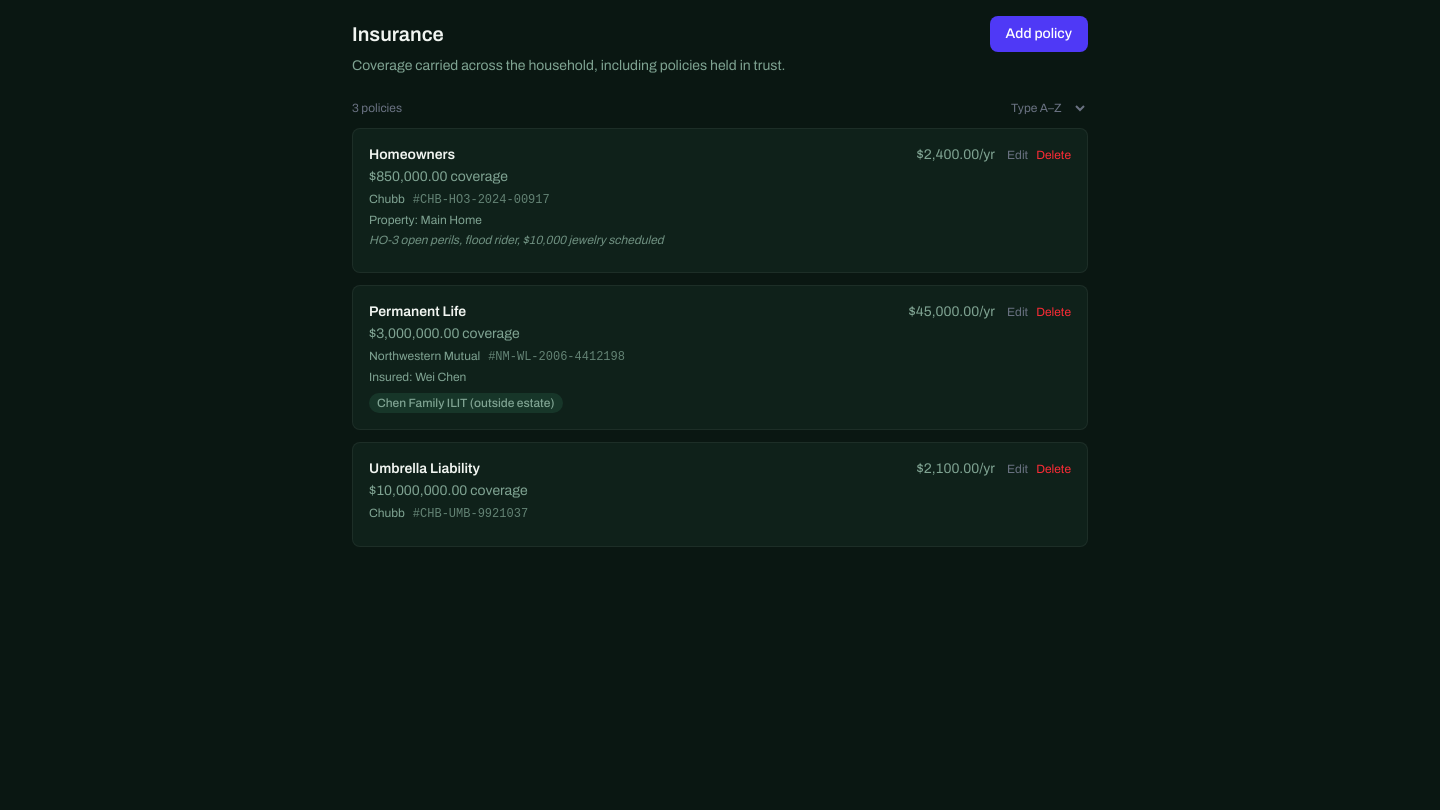
Test: Insurance page › closes Edit modal on Cancel
The width and height of the screenshot is (1440, 810).
Expected: the text "Umbrella Liability" is shown, [369,459,480,479]
Click the button "Edit" in the row of "$2,400.00" at (1018, 155), box [1007,147,1028,163]
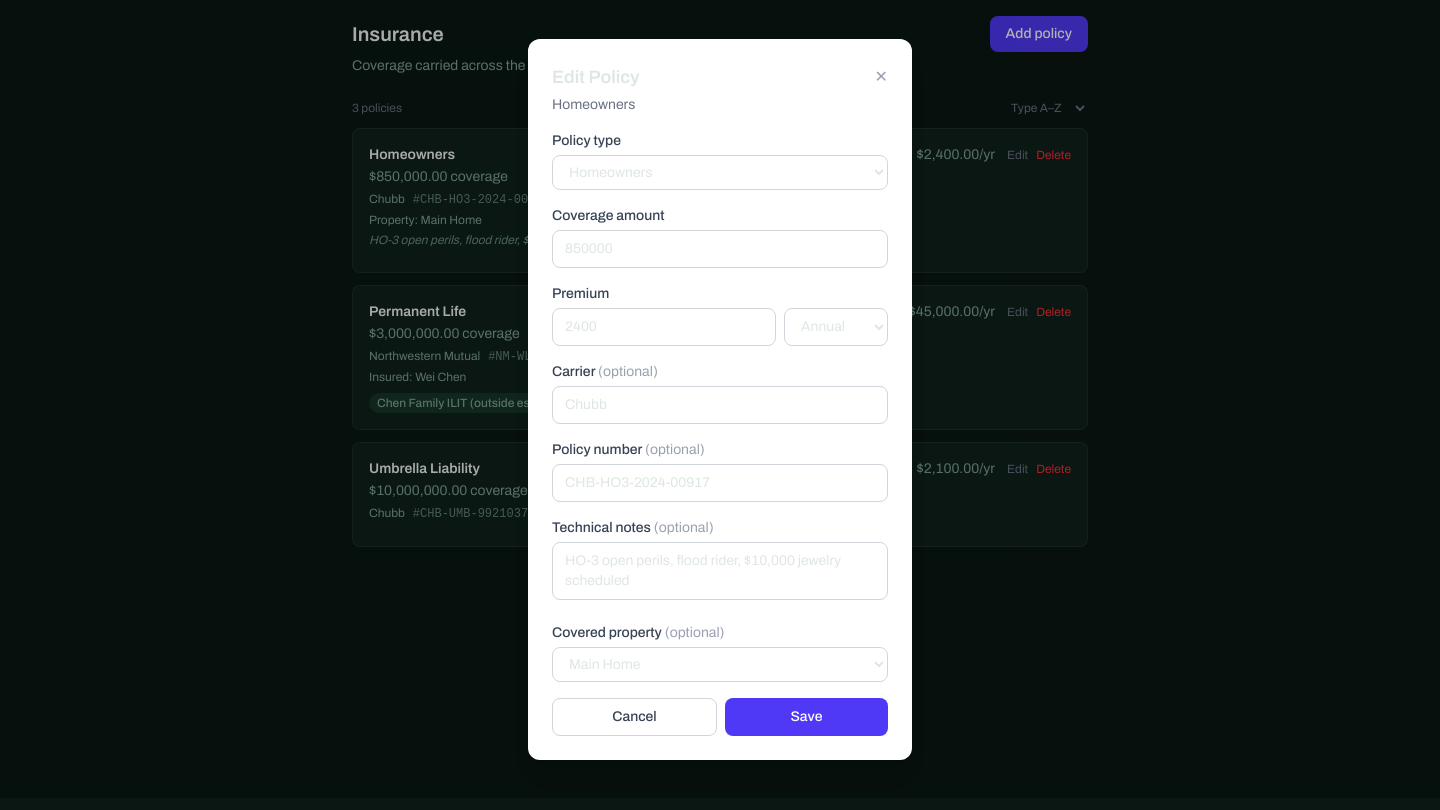
Click the button "Cancel" at (634, 716), box [552,698,717,736]
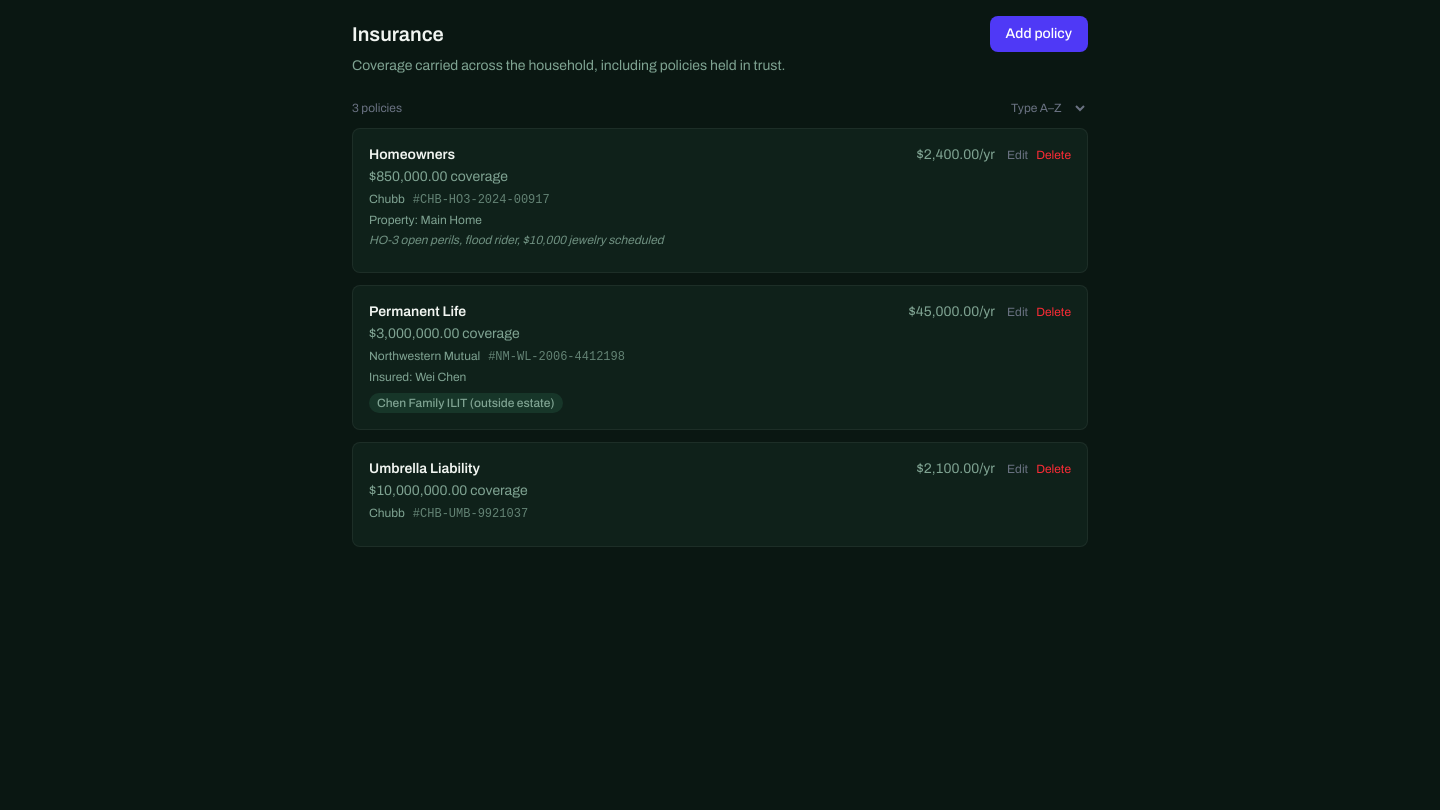
Now the heading "Edit Policy" is gone
